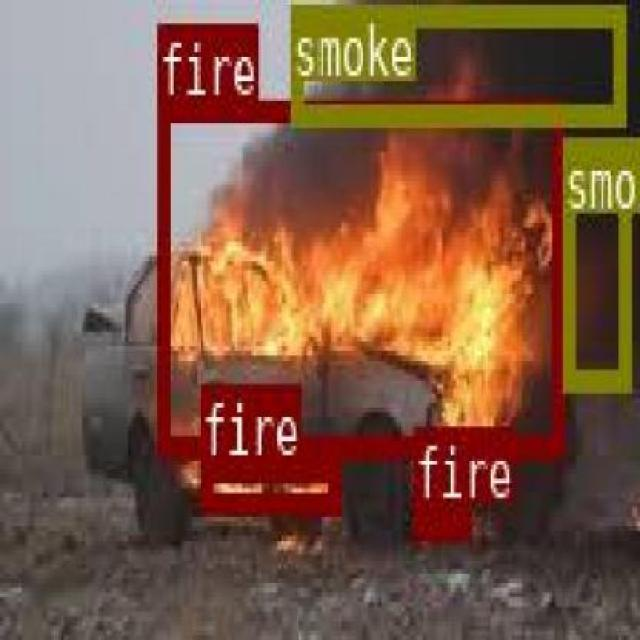Fire: (156, 96, 561, 453), (199, 458, 338, 510), (413, 502, 469, 535)
Smoke: (291, 3, 624, 122), (562, 134, 627, 388)
